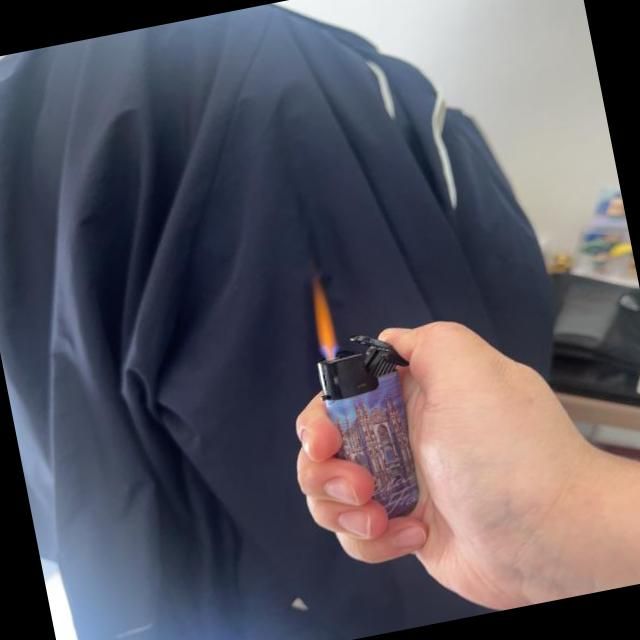Fire: (304, 282, 344, 361)
